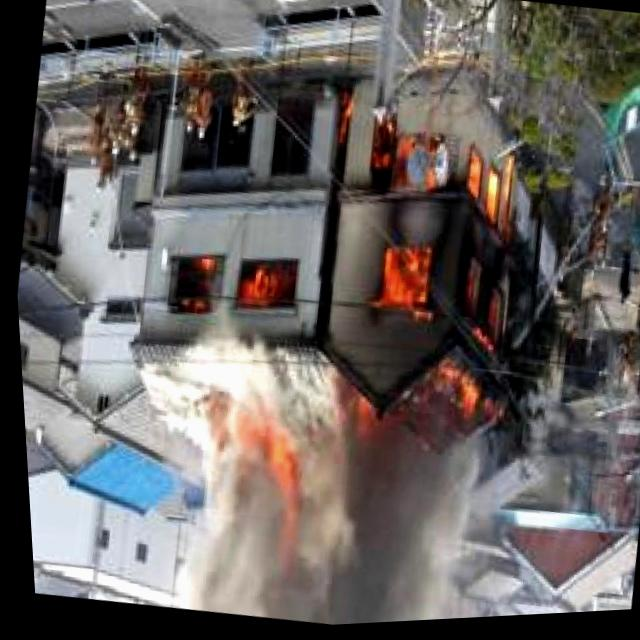helmet: (320, 104, 539, 455), (161, 250, 291, 331), (218, 414, 296, 495)
no_helmet: (141, 342, 483, 635)
